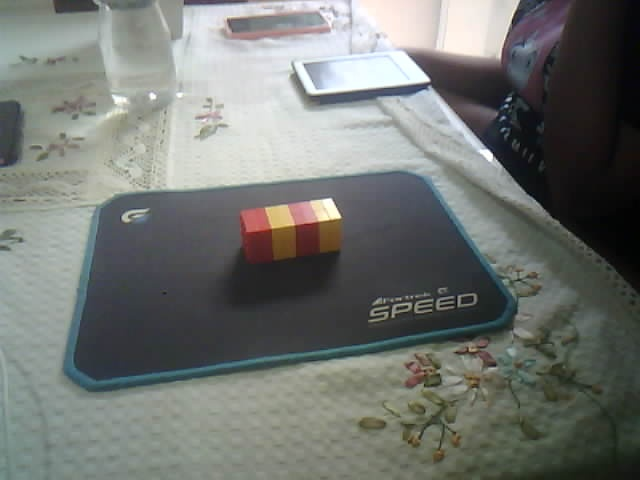lego: (238, 197, 344, 263)
